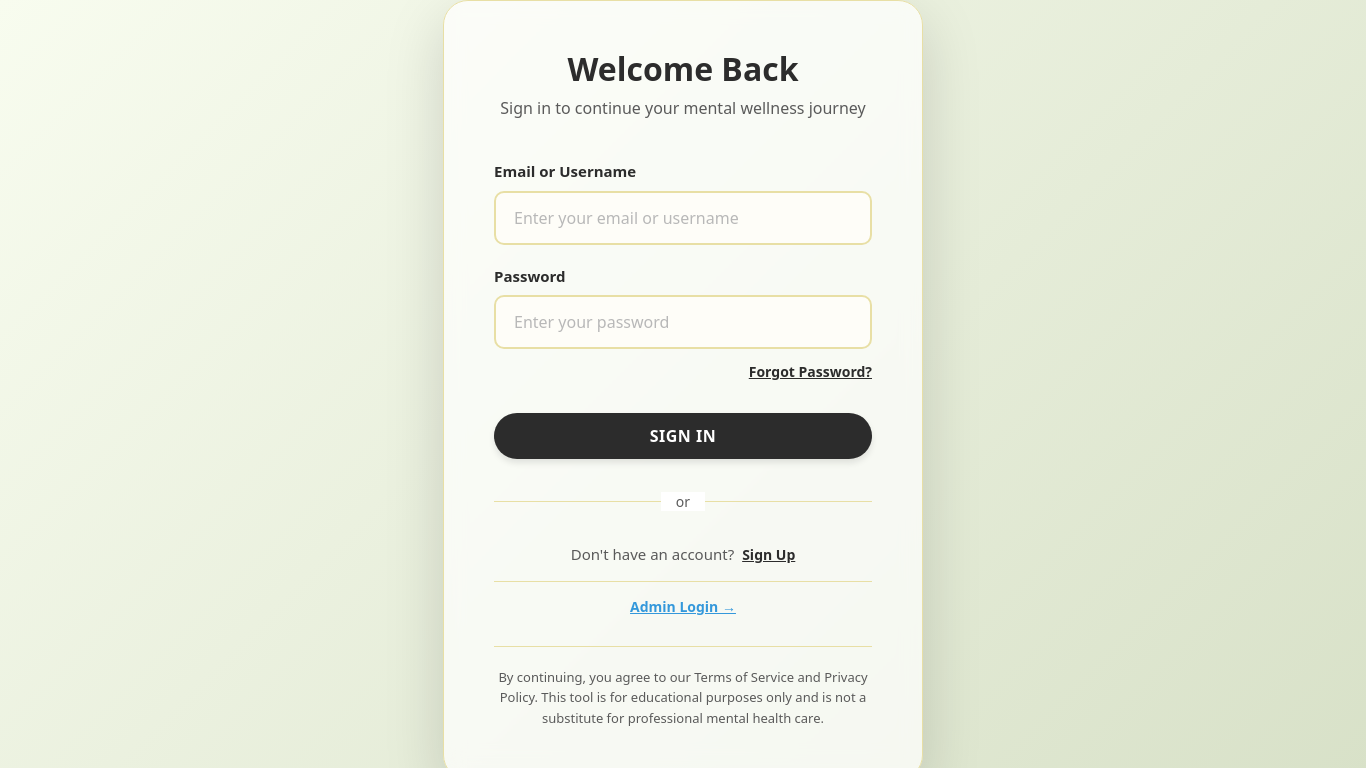
Scenario: Login Page › toggles to sign up form when "Sign Up" link is clicked
This screenshot has width=1366, height=768.
Note: The toggle button says "Sign Up" when in Sign In mode
Click the button "Sign Up". click: click(769, 554)
box: x1=742 y1=545 x2=795 y2=564
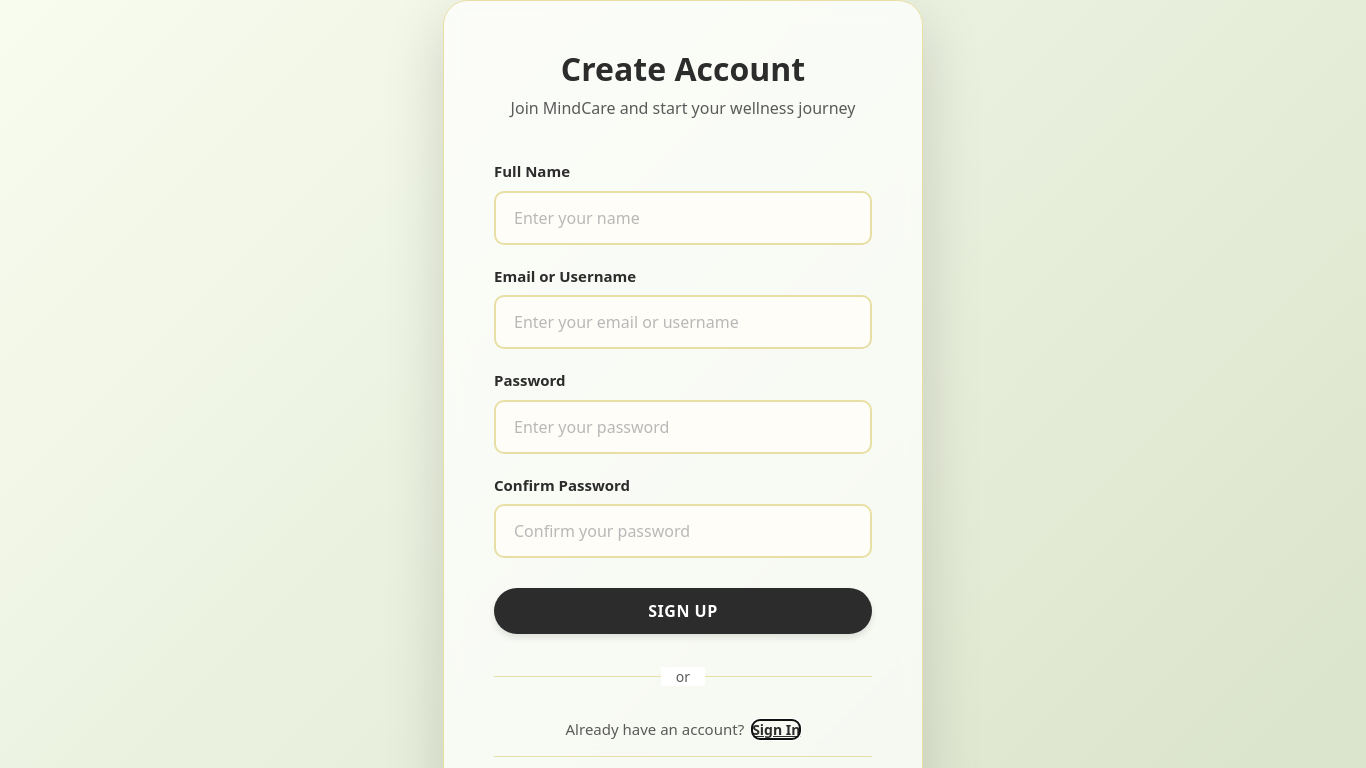
expect the heading "Create Account" is shown: met, box x1=561 y1=47 x2=805 y2=90
expect the field with placeholder "Enter your name" is shown: met, box x1=494 y1=191 x2=872 y2=245
expect the password field with placeholder "Confirm your password" is shown: met, box x1=494 y1=504 x2=872 y2=558
